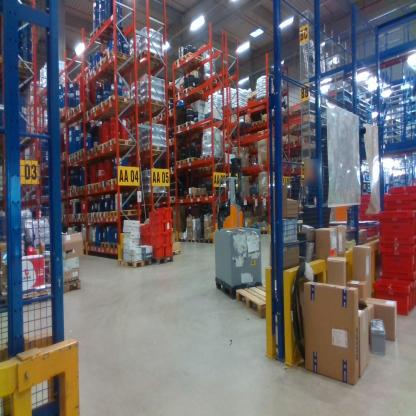forklift: (210, 152, 244, 231)
pallet: (95, 19, 132, 251), (237, 279, 276, 320), (0, 52, 35, 86), (48, 269, 85, 301), (17, 286, 50, 317), (106, 46, 137, 70), (89, 103, 128, 121), (106, 89, 135, 112), (138, 45, 167, 68), (107, 133, 138, 152), (124, 253, 153, 272), (89, 27, 121, 44), (137, 97, 165, 116), (80, 71, 113, 87), (98, 99, 130, 115), (97, 58, 130, 73), (91, 63, 117, 80), (174, 58, 199, 73), (181, 50, 204, 66), (110, 208, 140, 220), (153, 251, 174, 268), (139, 144, 166, 157), (182, 85, 207, 99), (196, 74, 220, 88), (92, 137, 108, 156), (183, 120, 206, 133), (208, 159, 226, 174), (165, 135, 183, 149), (184, 154, 202, 165), (107, 176, 121, 188), (78, 98, 90, 112), (186, 191, 201, 201), (82, 107, 90, 124), (204, 186, 219, 195), (37, 85, 48, 97), (175, 236, 189, 245), (78, 146, 86, 161), (99, 178, 109, 190), (59, 103, 67, 118), (167, 105, 175, 120), (150, 113, 160, 125), (244, 120, 254, 132), (156, 113, 167, 123), (167, 195, 178, 205), (175, 120, 184, 132), (72, 103, 79, 118), (66, 102, 74, 115), (174, 246, 184, 256), (175, 156, 185, 166), (174, 90, 183, 101), (203, 236, 214, 245), (249, 119, 262, 126), (199, 165, 209, 174), (246, 94, 256, 103), (98, 211, 109, 219), (76, 184, 85, 193), (101, 240, 110, 249), (255, 96, 266, 103), (201, 155, 220, 159), (67, 187, 76, 195), (85, 182, 93, 191), (92, 181, 101, 189), (94, 239, 102, 248), (67, 110, 73, 122), (195, 236, 204, 244), (260, 230, 269, 238), (71, 153, 78, 163), (200, 191, 207, 201), (87, 146, 93, 157), (66, 151, 72, 162), (66, 213, 74, 221), (187, 237, 195, 245), (87, 241, 96, 248), (294, 155, 305, 160), (60, 150, 66, 159), (296, 121, 303, 128), (287, 154, 295, 160), (61, 189, 66, 198), (67, 184, 76, 189), (71, 151, 77, 158), (93, 211, 99, 218), (85, 212, 92, 218), (74, 213, 80, 220), (66, 159, 73, 164), (81, 211, 86, 218)
small_load_carrier: (375, 279, 413, 315), (377, 243, 415, 278), (372, 209, 416, 236), (379, 236, 416, 251), (147, 213, 166, 235), (140, 225, 153, 249), (146, 206, 163, 224), (149, 228, 166, 246), (382, 193, 415, 202), (378, 202, 415, 209), (150, 244, 164, 260), (163, 205, 173, 224), (162, 229, 174, 244), (164, 244, 174, 260), (162, 219, 173, 229)
